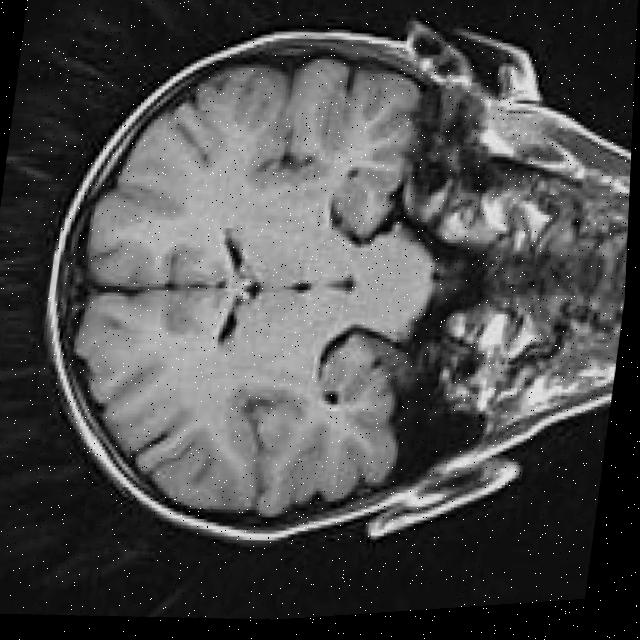NoTumor: (12, 0, 466, 567)
